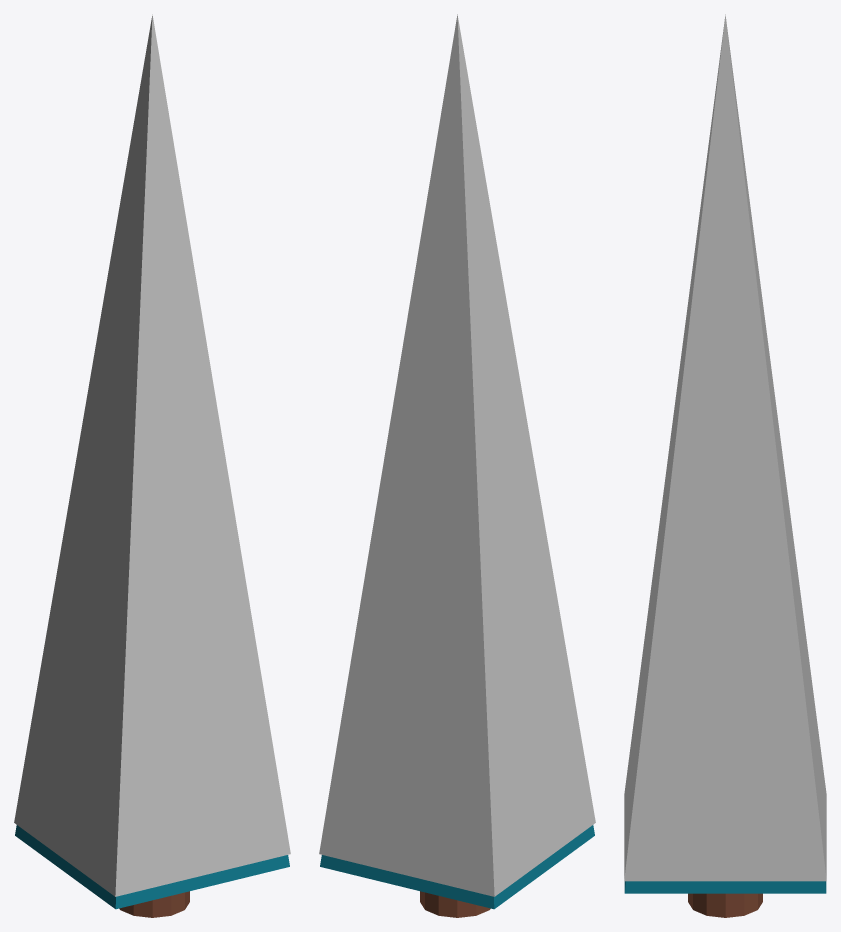
The model's file is Tree_19_winter_blue_mat.fbx.
3 renders of one model, left to right at view 1: azimuth 30°, elevation 25°; view 2: azimuth 150°, elevation 25°; view 3: azimuth 270°, elevation 25°, orthographic.
Parts seen in each view (by area): view 1: Tree_19_winter_blue_mat; view 2: Tree_19_winter_blue_mat; view 3: Tree_19_winter_blue_mat.
Part boxes in pixels (x1,y1,x2,y2): Tree_19_winter_blue_mat: [14, 14, 290, 917]; Tree_19_winter_blue_mat: [319, 14, 595, 917]; Tree_19_winter_blue_mat: [624, 14, 826, 917].
Bounding box in the file's own units: 60.03 × 290 × 60.03.
